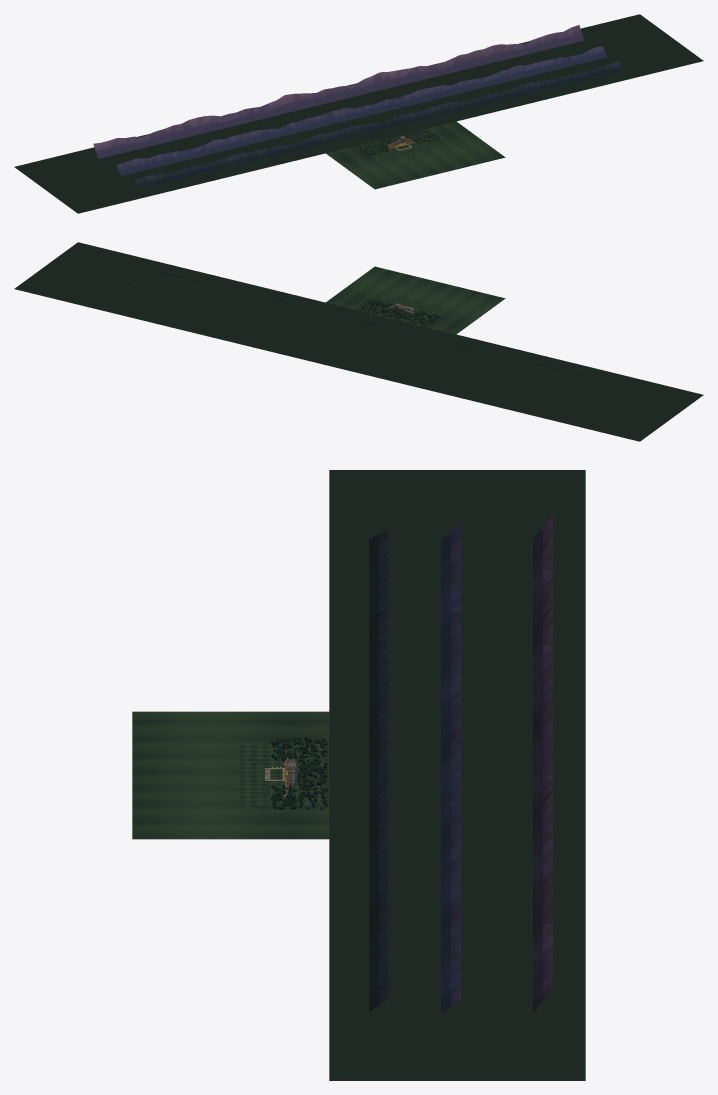
File: hotel.glb
3 views of the same model, one above another, from view 1: azimuth 30°, elevation 25°; view 2: azimuth 150°, elevation 25°; view 3: azimuth 270°, elevation 25° (orthographic). The views are drawn at different scales.
Visible parts, largest first — view 1: far, solid, foliage; view 2: far, solid, foliage; view 3: far, solid, foliage.
Part boxes in pixels (left/top/right/bottom): far: left=14, top=14, right=703, bottom=213; solid: left=326, top=121, right=505, bottom=189; foliage: left=357, top=129, right=439, bottom=156; far: left=14, top=242, right=703, bottom=441; solid: left=326, top=266, right=505, bottom=334; foliage: left=357, top=297, right=439, bottom=325; far: left=329, top=470, right=585, bottom=1080; solid: left=132, top=711, right=329, bottom=839; foliage: left=246, top=736, right=328, bottom=809.
Size of the model in its own units: 4400 by 93.57 by 1380.
